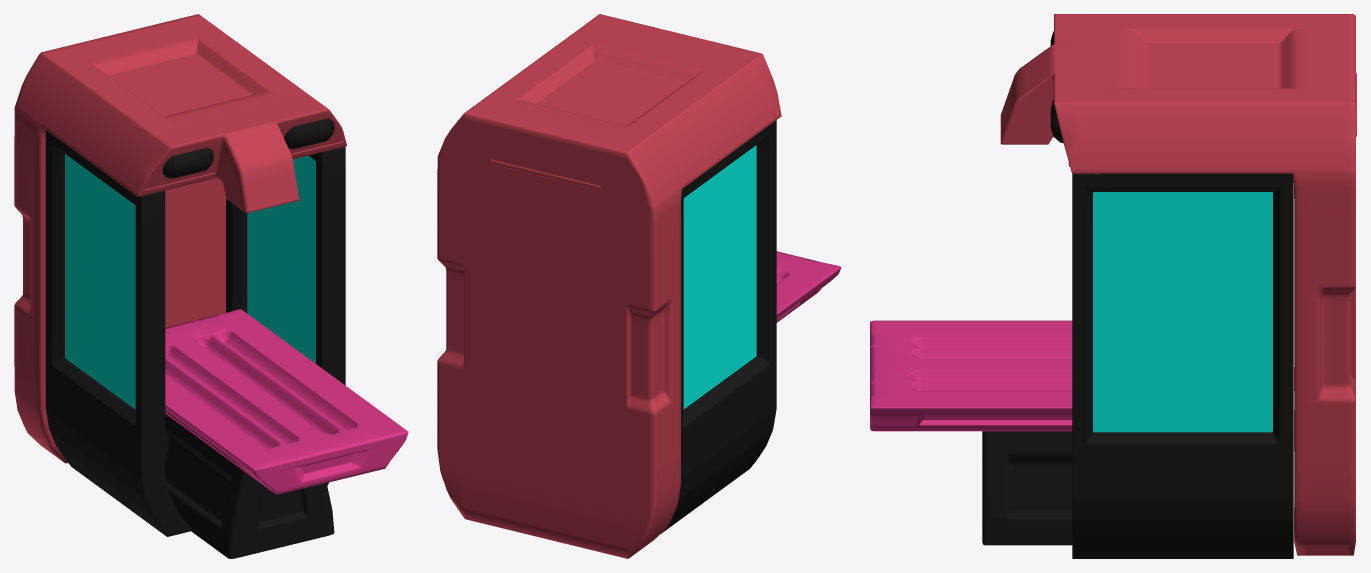
File: Replicating anim.fbx
3 views of the same model, side by side, from view 1: azimuth 30°, elevation 25°; view 2: azimuth 150°, elevation 25°; view 3: azimuth 270°, elevation 25° (orthographic). The views are drawn at different scales.
Parts seen in each view (by area): view 1: Object004, Box014, Replicating Anim, Holo emmiter; view 2: Object004, Box014, Holo emmiter, Replicating Anim; view 3: Object004, Holo emmiter, Box014, Replicating Anim.
Part boxes in pixels (x1,y1,x2,y2): Object004: (14, 14, 346, 558); Box014: (45, 130, 345, 536); Replicating Anim: (165, 309, 408, 494); Holo emmiter: (65, 154, 315, 409); Object004: (437, 14, 781, 558); Box014: (660, 120, 776, 534); Holo emmiter: (683, 145, 756, 409); Replicating Anim: (776, 251, 841, 322); Object004: (982, 14, 1356, 555); Holo emmiter: (1093, 192, 1272, 432); Box014: (1072, 173, 1293, 558); Replicating Anim: (870, 320, 1072, 431).
Bounding box in the file's own units: 39.26 × 70.58 × 68.09.
